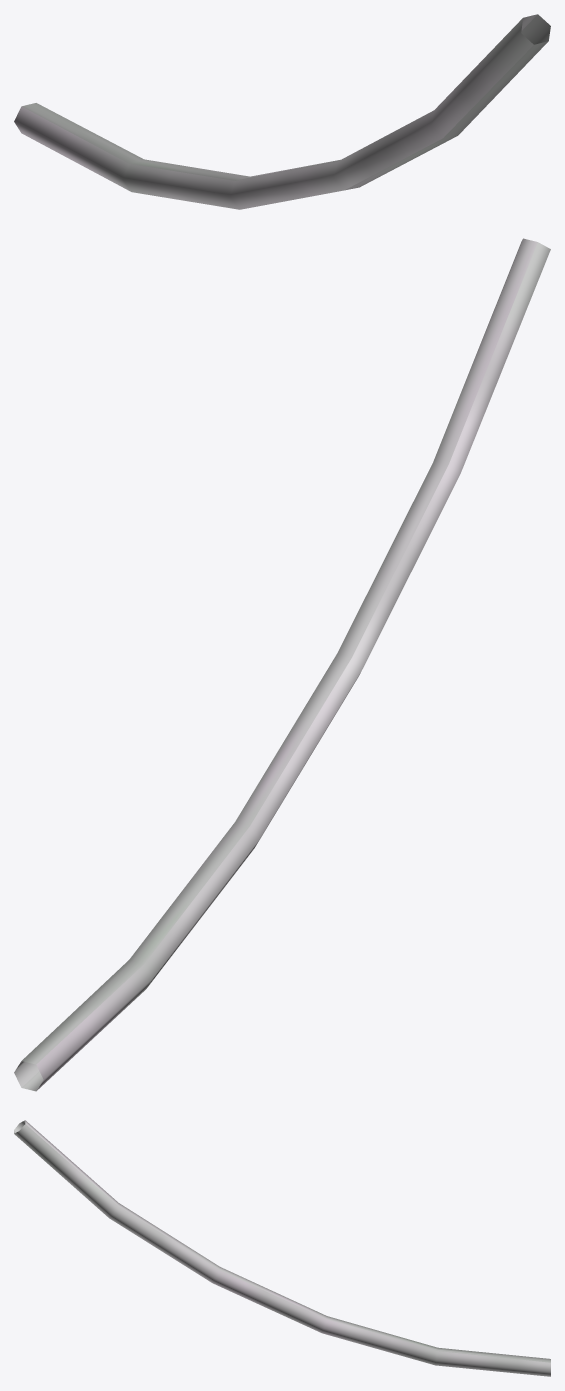
File: cable_bend_angled_medium.dae
3 renders of one model, top to bottom at view 1: azimuth 30°, elevation 25°; view 2: azimuth 150°, elevation 25°; view 3: azimuth 270°, elevation 25°, orthographic. The views are drawn at different scales.
Visible parts, largest first — view 1: Mesh; view 2: Mesh; view 3: Mesh.
Part boxes in pixels (x1,y1,x2,y2): Mesh: (14,14,550,209); Mesh: (14,238,550,1091); Mesh: (14,1120,550,1376).
Bounding box in the file's own units: 0.017 × 0.2625 × 0.5052.
